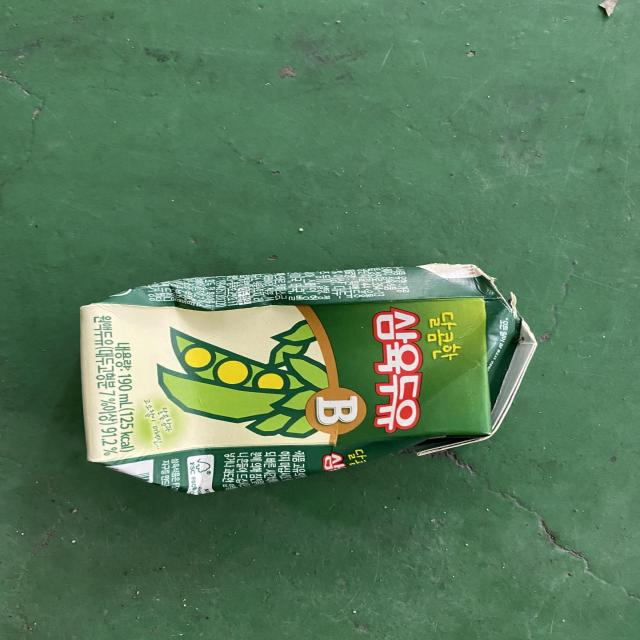paperpack: (80, 264, 537, 495)
